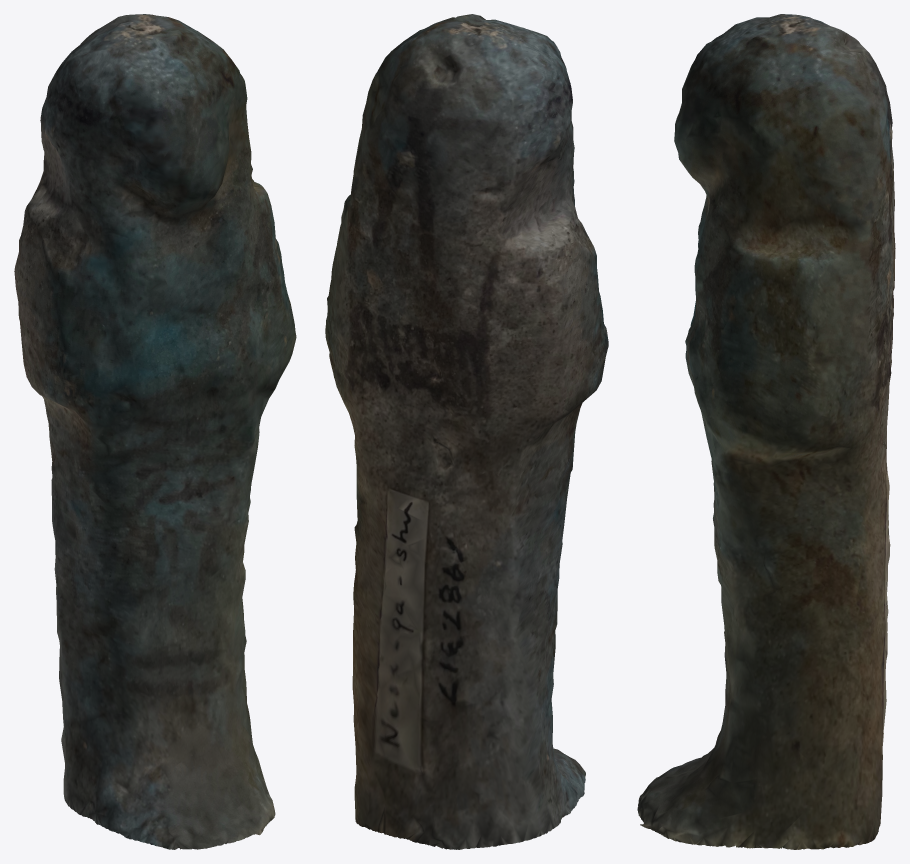
File: shawabti-nesi-qa-shu.glb
3 renders of one model, left to right at view 1: azimuth 30°, elevation 25°; view 2: azimuth 150°, elevation 25°; view 3: azimuth 270°, elevation 25°, orthographic. The views are drawn at different scales.
Parts seen in each view (by area): view 1: Object_2; view 2: Object_2; view 3: Object_2.
Part boxes in pixels (x1=…): Object_2: x1=14, y1=14, x2=296, y2=849; Object_2: x1=325, y1=14, x2=608, y2=849; Object_2: x1=637, y1=14, x2=895, y2=849.
Size of the model in its own units: 3.62 by 10.96 by 3.28.
Materials: 1 (1 with a texture image).
